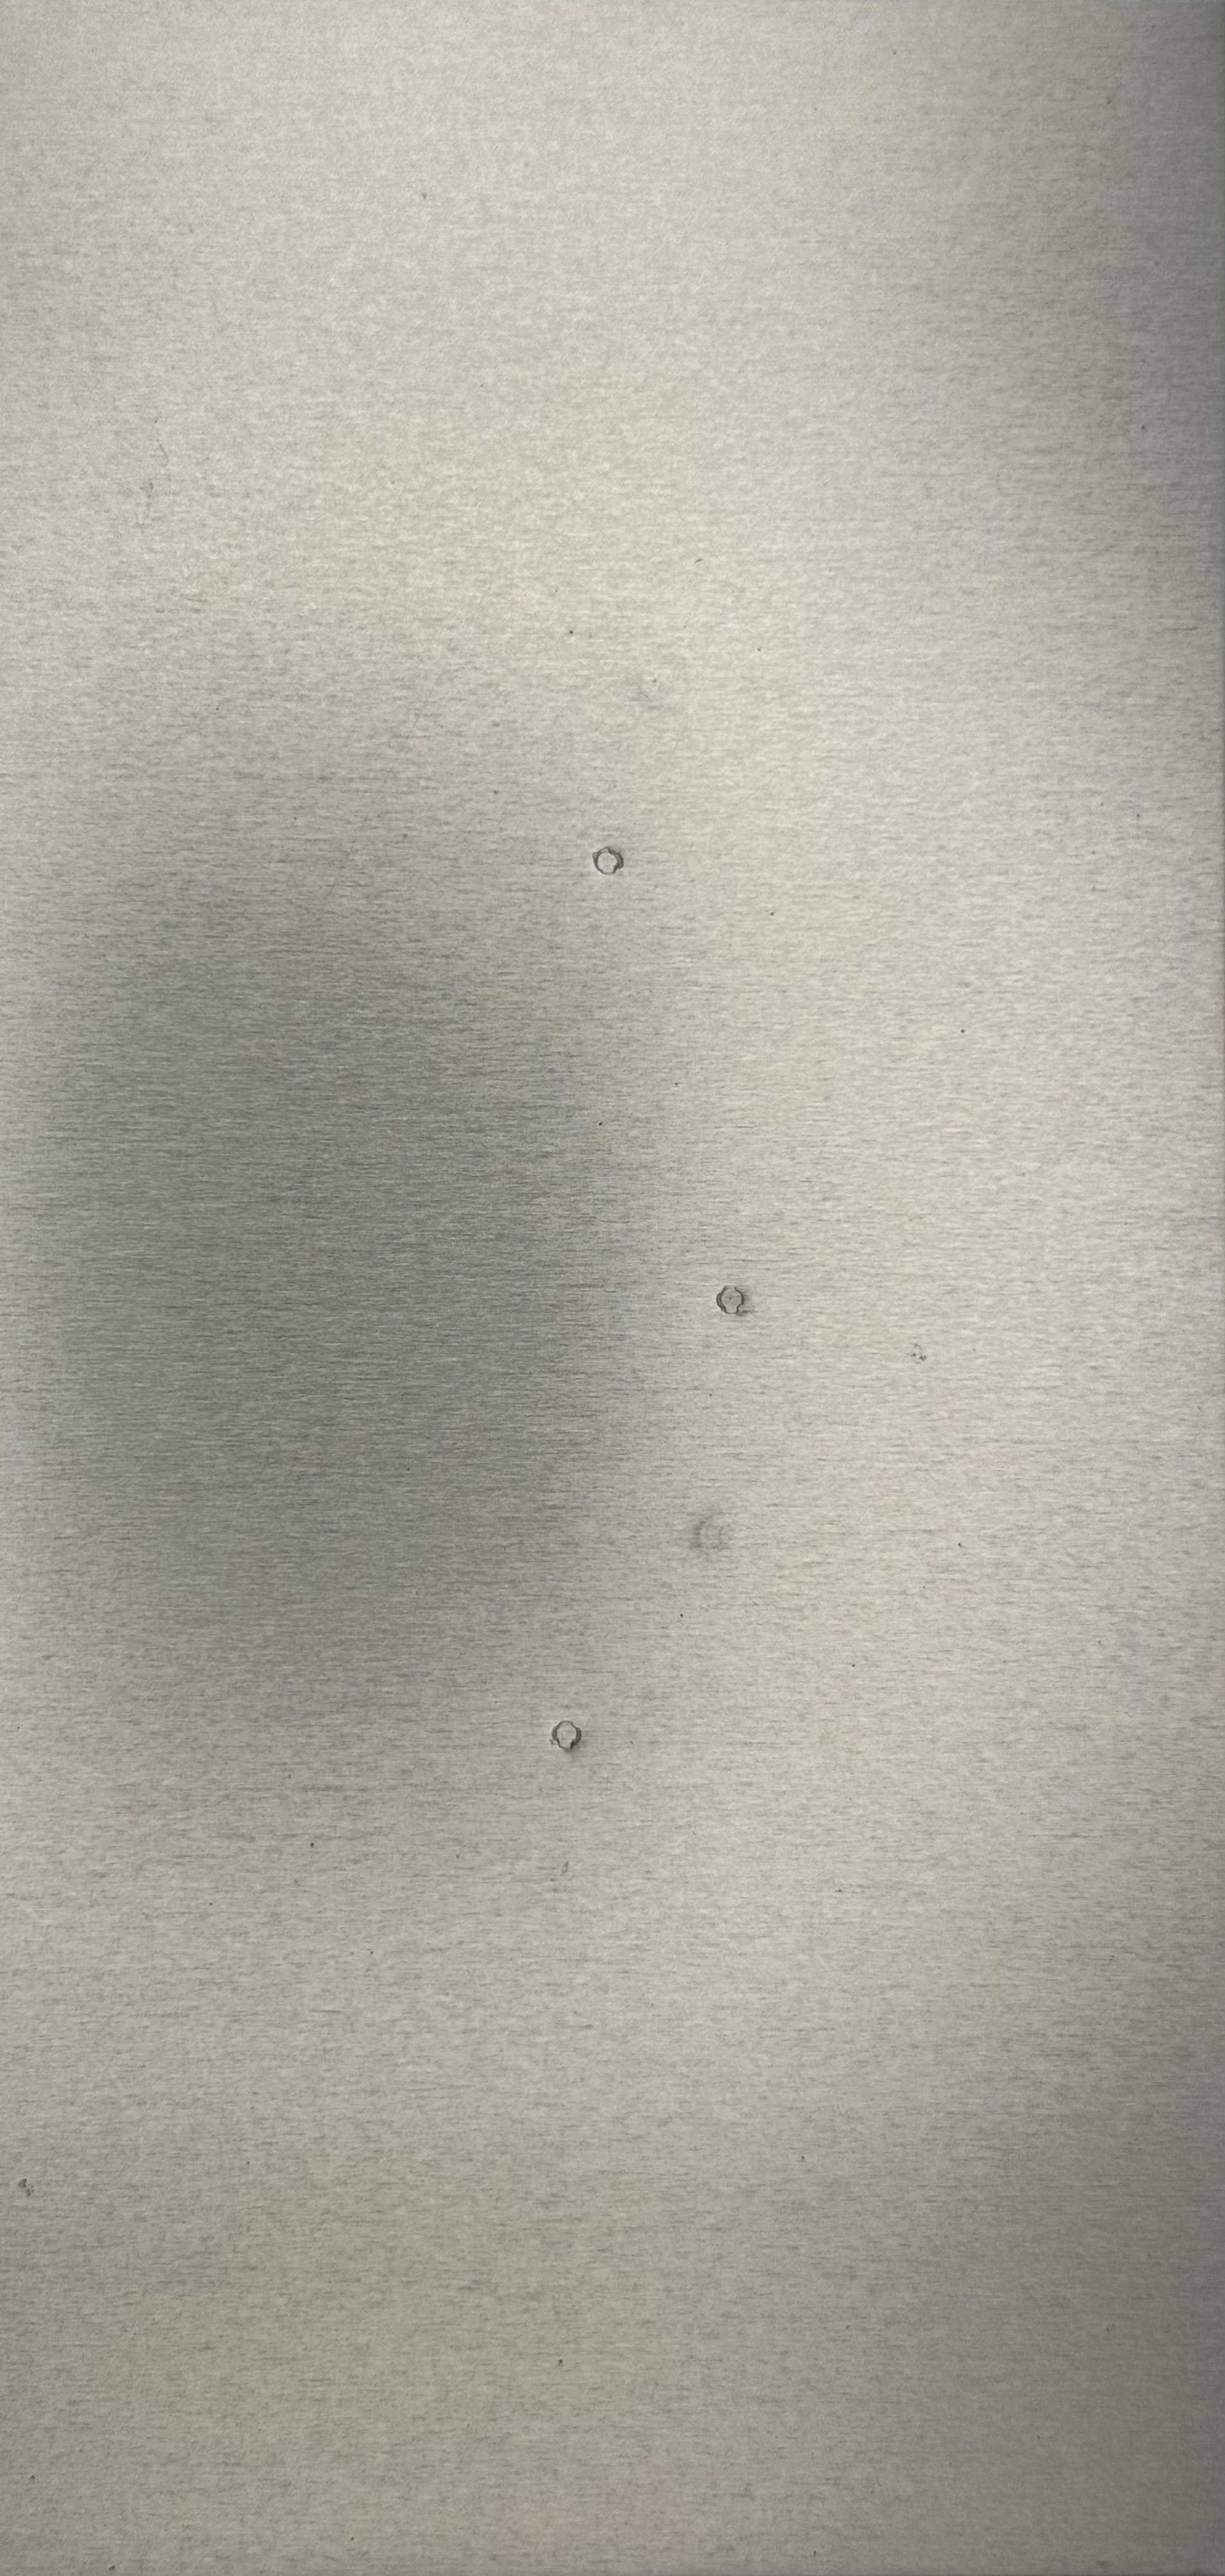Delle: (608, 626, 732, 729), (677, 1497, 747, 1569), (576, 823, 647, 892), (709, 1265, 767, 1329), (540, 1712, 604, 1766)
